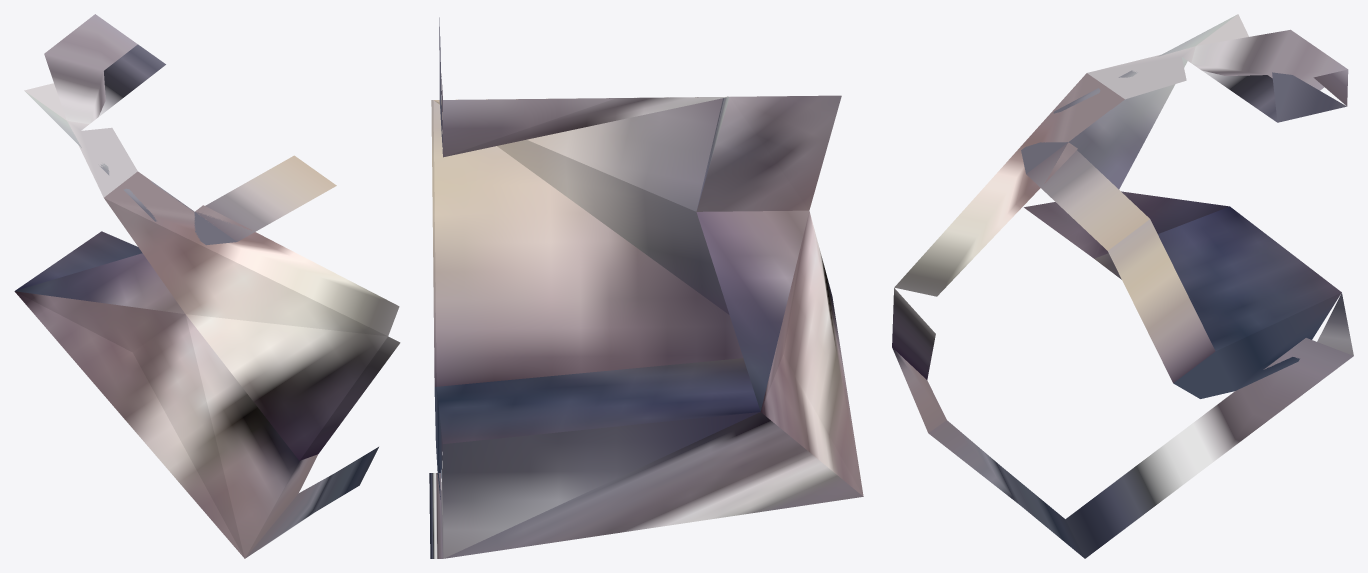
3 renders of one model, left to right at view 1: azimuth 30°, elevation 25°; view 2: azimuth 150°, elevation 25°; view 3: azimuth 270°, elevation 25°, orthographic. The views are drawn at different scales.
Size of the model in its own units: 2.85 by 4.08 by 3.9.
1 material, 1 textured.
